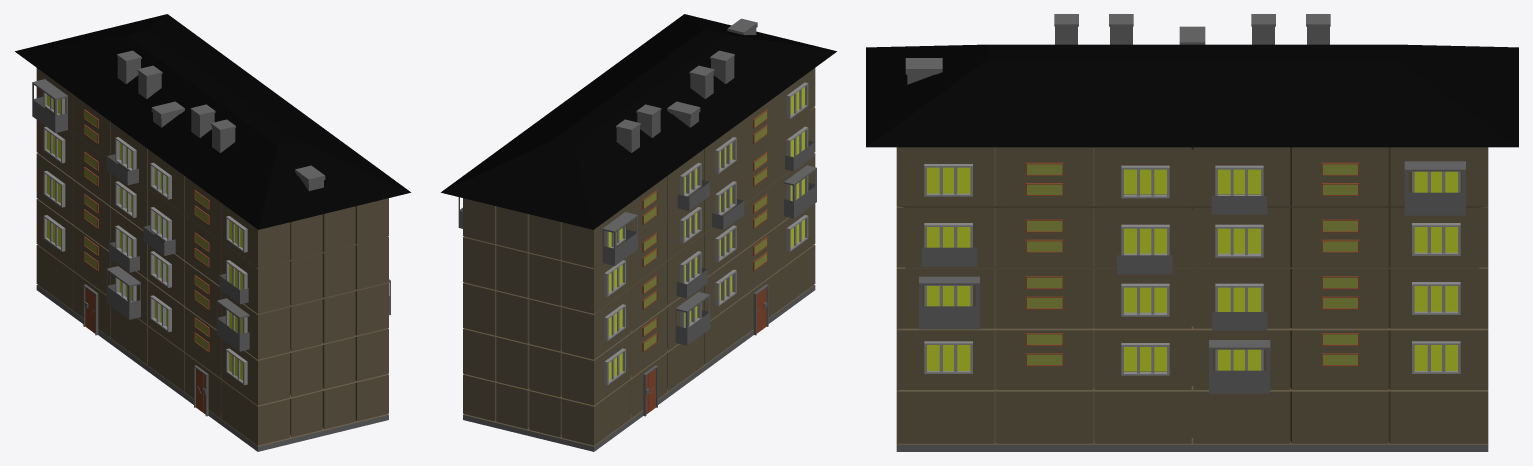
Rendered from Сталинка2blend.glb.
3 views of the same model, side by side, from view 1: azimuth 30°, elevation 25°; view 2: azimuth 150°, elevation 25°; view 3: azimuth 270°, elevation 25° (orthographic). The views are drawn at different scales.
Parts seen in each view (by area): view 1: Plane, Plane.001, Plane.009, Cube.009, Plane.006, Plane.012, Plane.005, Plane.004, Plane.008, Plane.011, Cube.002, Cube.005 (+11 smaller); view 2: Plane, Plane.001, Plane.009, Cube.009, Plane.006, Plane.012, Plane.005, Plane.004, Plane.008, Cube.002, Plane.011, Cube.003 (+10 smaller); view 3: Plane, Plane.001, Plane.010, Plane.008, Plane.005, Plane.012, Plane.009, Plane.006, Plane.004, Cube.009, Cube.002, Cube.003 (+8 smaller).
Part boxes in pixels (x1,y1,x2,y2): Plane: [36, 68, 388, 446]; Plane.001: [15, 14, 410, 229]; Plane.009: [115, 137, 171, 331]; Cube.009: [117, 50, 235, 152]; Plane.006: [43, 92, 247, 385]; Plane.012: [36, 285, 388, 451]; Plane.005: [84, 111, 207, 350]; Plane.004: [83, 109, 209, 352]; Plane.008: [47, 94, 242, 380]; Plane.011: [121, 144, 165, 326]; Cube.002: [32, 79, 67, 132]; Cube.005: [216, 279, 390, 351]; Plane: [463, 68, 815, 446]; Plane.001: [441, 14, 836, 229]; Plane.009: [680, 137, 736, 327]; Cube.009: [616, 50, 734, 152]; Plane.006: [604, 82, 808, 385]; Plane.012: [463, 285, 815, 451]; Plane.005: [644, 111, 767, 350]; Plane.004: [642, 109, 768, 352]; Plane.008: [609, 87, 804, 380]; Cube.002: [458, 197, 637, 265]; Plane.011: [686, 144, 730, 325]; Cube.003: [675, 292, 710, 345]; Plane: [896, 147, 1488, 444]; Plane.001: [866, 44, 1518, 147]; Plane.010: [1124, 169, 1260, 371]; Plane.008: [927, 167, 1457, 370]; Plane.005: [1027, 164, 1357, 364]; Plane.012: [896, 445, 1488, 451]; Plane.009: [1121, 165, 1263, 375]; Plane.006: [924, 164, 1460, 373]; Plane.004: [1025, 162, 1359, 366]; Cube.009: [1054, 14, 1330, 44]; Cube.002: [1404, 161, 1465, 215]; Cube.003: [1209, 340, 1270, 393].
Size of the model in its own units: 14.32 by 23.91 by 38.63.
